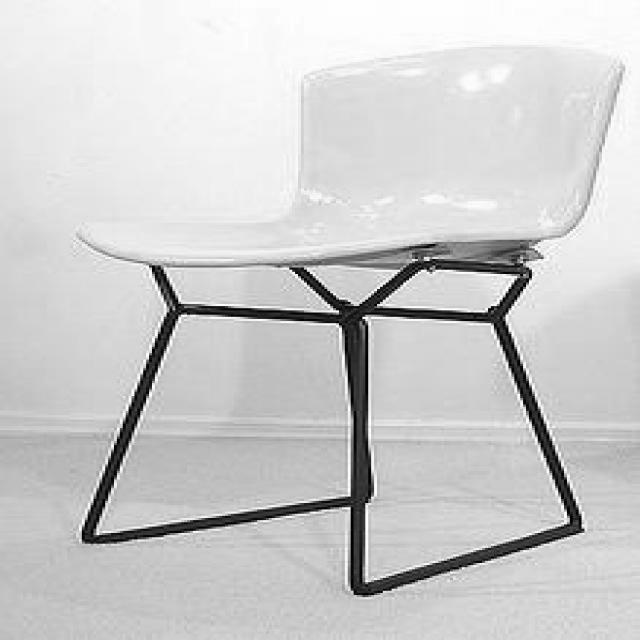chair: (69, 43, 624, 599)
